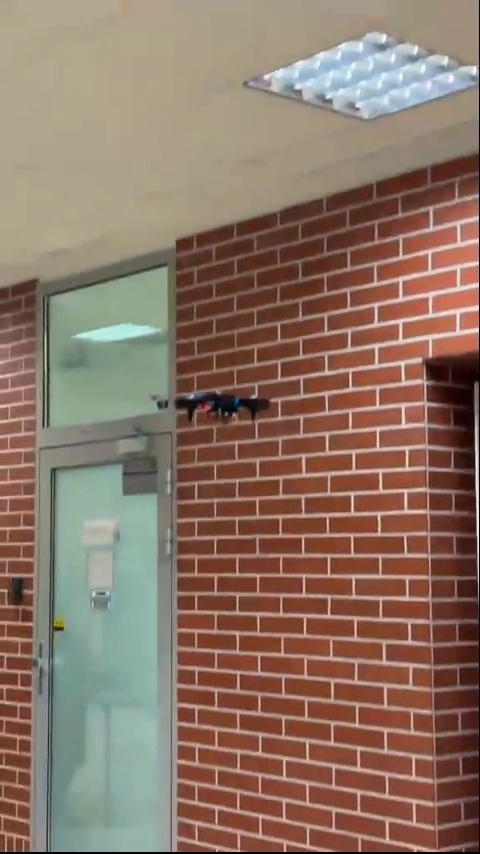drone: (173, 386, 270, 421)
